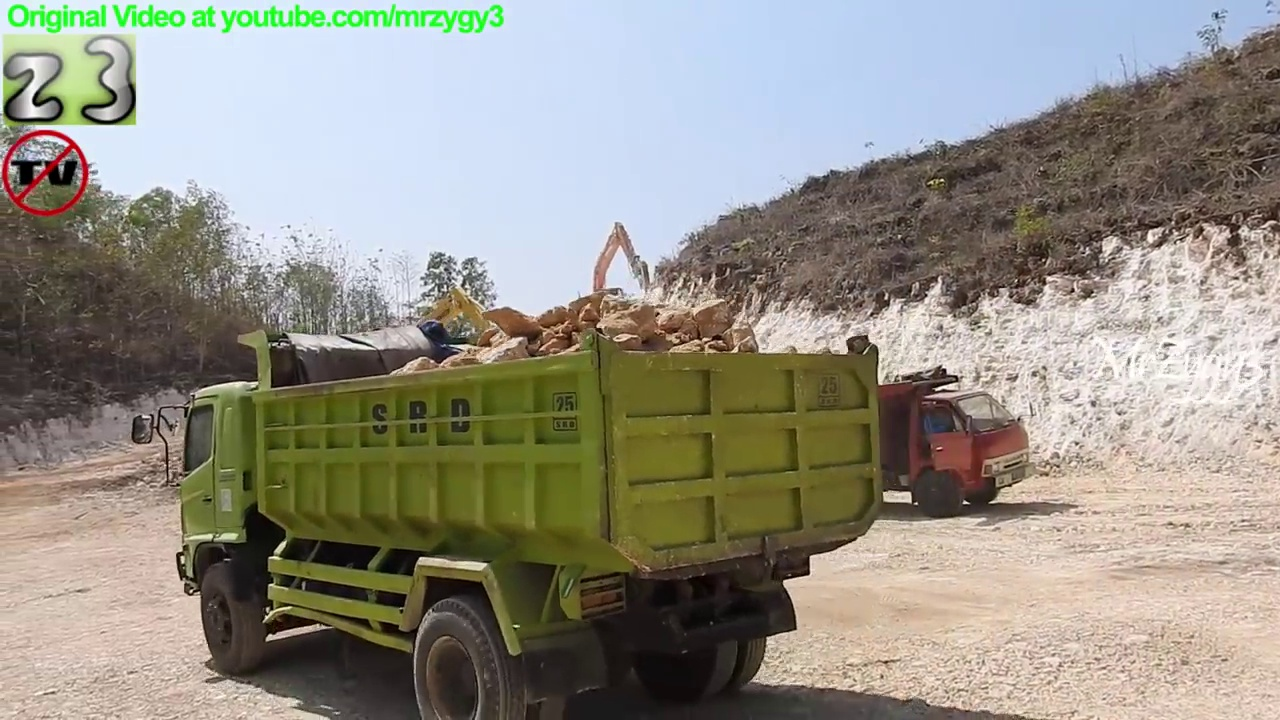excavator: (346, 279, 544, 496), (548, 219, 667, 364)
truck: (124, 320, 897, 720), (629, 357, 1041, 531)
